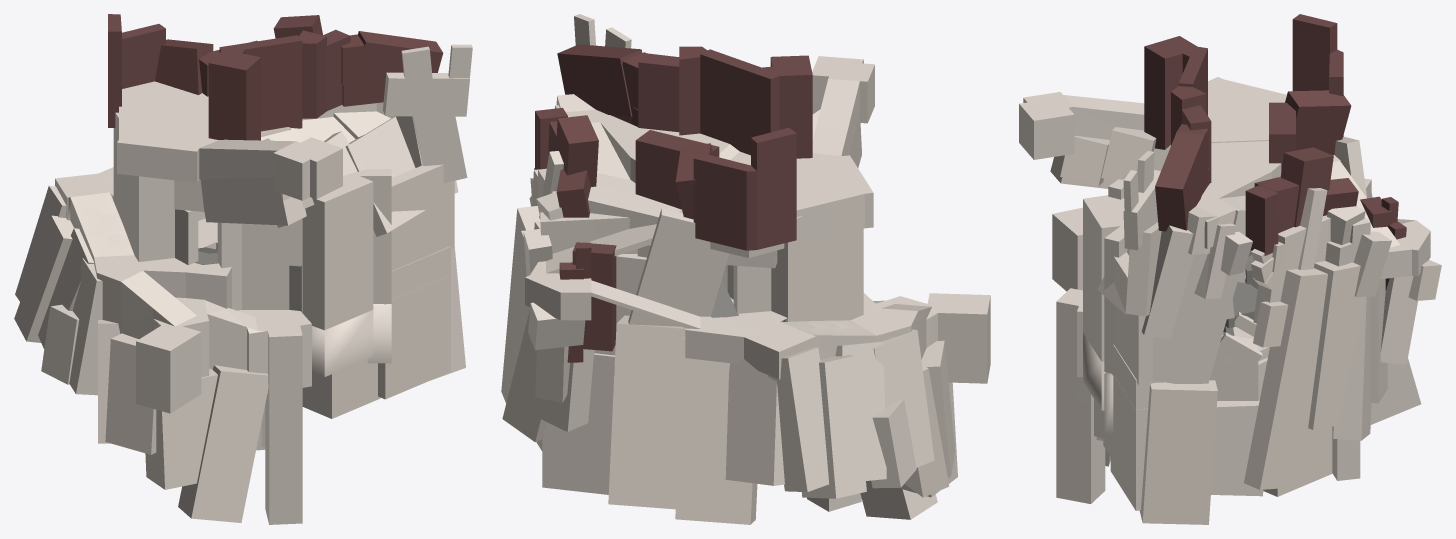
File: Peak_Cave.fbx
3 renders of one model, left to right at view 1: azimuth 30°, elevation 25°; view 2: azimuth 150°, elevation 25°; view 3: azimuth 270°, elevation 25°, orthographic. The views are drawn at different scales.
Parts seen in each view (by area): view 1: Bulky prettiness, Crown, Outards, Main, GroundFloor, Innards; view 2: Bulky prettiness, Crown, Main, Outards, Innards; view 3: Bulky prettiness, Crown, Main, Outards, GroundFloor, Innards.
Part boxes in pixels (x1,y1,x2,y2): Bulky prettiness: (14, 44, 472, 522); Crown: (108, 14, 443, 225); Outards: (55, 167, 311, 524); Main: (113, 112, 458, 330); GroundFloor: (198, 218, 450, 299); Innards: (194, 247, 301, 312); Bulky prettiness: (501, 14, 957, 524); Crown: (525, 44, 874, 362); Main: (523, 168, 863, 375); Outards: (685, 293, 990, 511); Innards: (711, 279, 738, 317); Bulky prettiness: (1083, 145, 1441, 524); Crown: (1019, 14, 1430, 298); Main: (1083, 136, 1391, 384); Outards: (1052, 178, 1371, 503); GroundFloor: (1113, 327, 1269, 409); Innards: (1222, 250, 1258, 335).
Bounding box in the file's own units: 3060 × 2932 × 3399.
